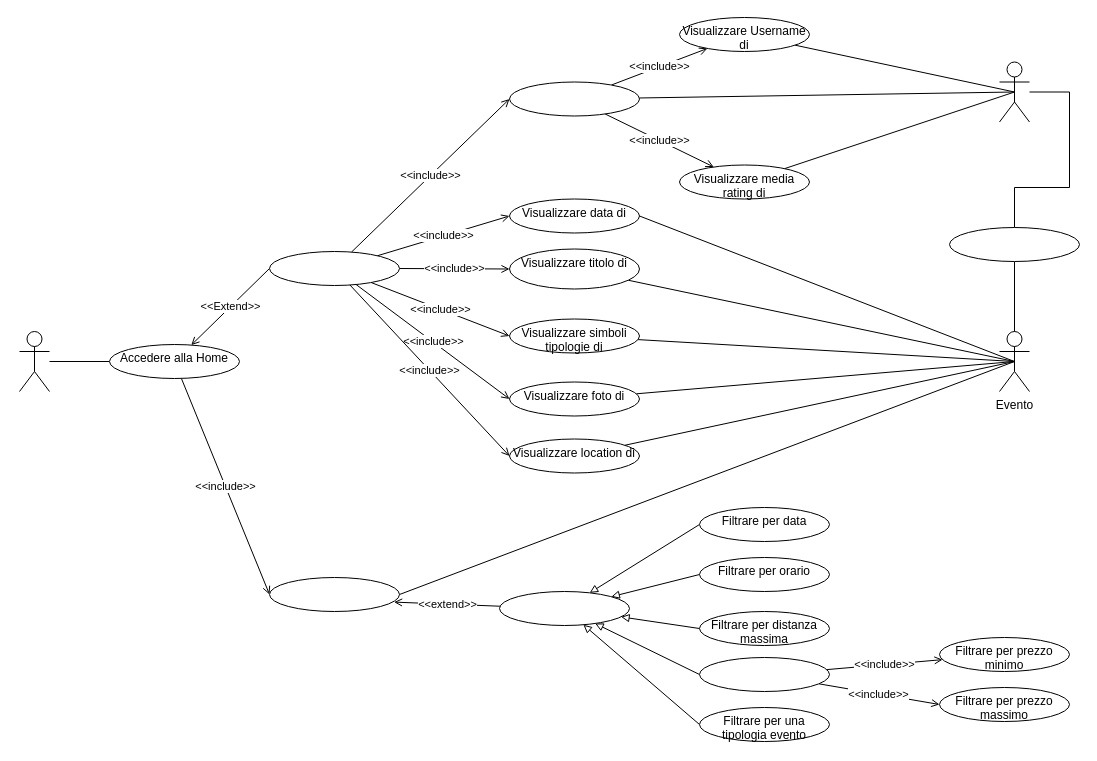
The diagram is 1097 pixels wide and 761 high, and some of its shapes have lost their labels. The box of each missing label's shape, as (x1, y1, x2, y2) in pixels:
Creare: (948, 226, 1080, 262)
Filtrare elenco: (498, 590, 630, 626)
Filtrare per intervallo di prezzo: (698, 656, 830, 692)
Organizzatore: (998, 61, 1030, 122)
Utente: (18, 330, 50, 392)
Visualizzare elenco di: (268, 576, 400, 612)
Visualizzare informazioni di: (508, 81, 640, 116)
Visualizzare locandina: (268, 250, 400, 286)
